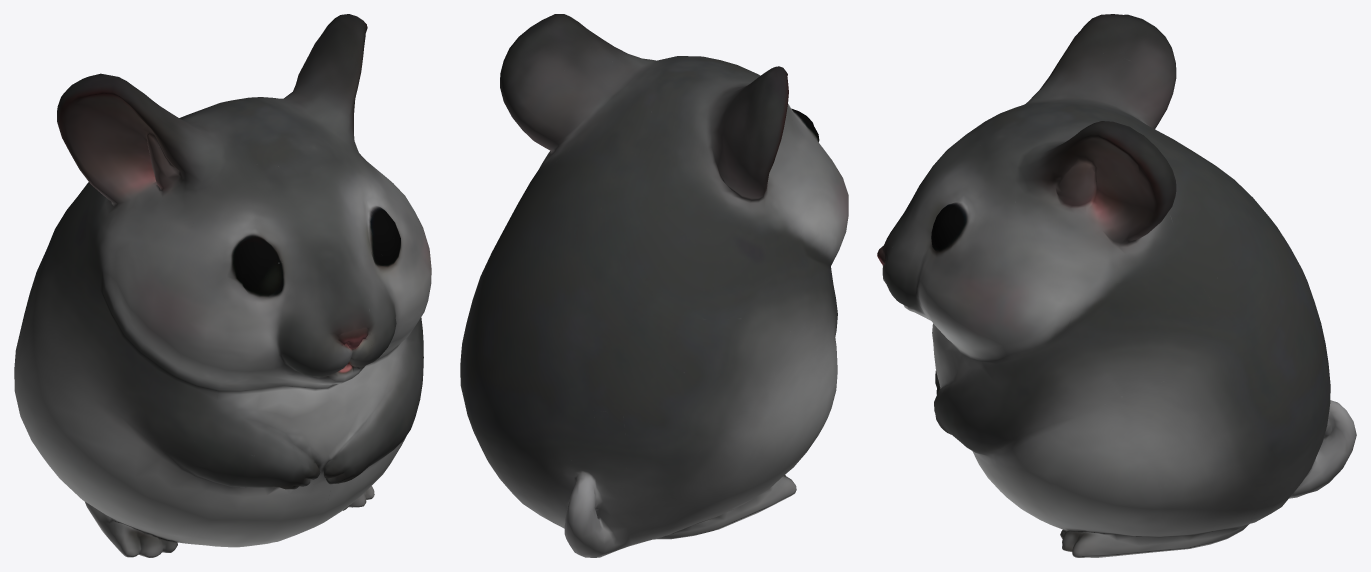
File: hamster.glb
3 renders of one model, left to right at view 1: azimuth 30°, elevation 25°; view 2: azimuth 150°, elevation 25°; view 3: azimuth 270°, elevation 25°, orthographic. The views are drawn at different scales.
Visible parts, largest first — view 1: geometry_0; view 2: geometry_0; view 3: geometry_0.
Boxes of the visible parts, bbox=[...] form: geometry_0: bbox=[14, 14, 431, 557]; geometry_0: bbox=[460, 14, 848, 557]; geometry_0: bbox=[877, 14, 1356, 557].
Bounding box in the file's own units: 0.7524 × 0.9521 × 0.9551.
Materials: 1 (1 with a texture image).
